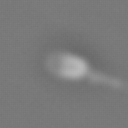normal: (90, 67, 128, 89)
